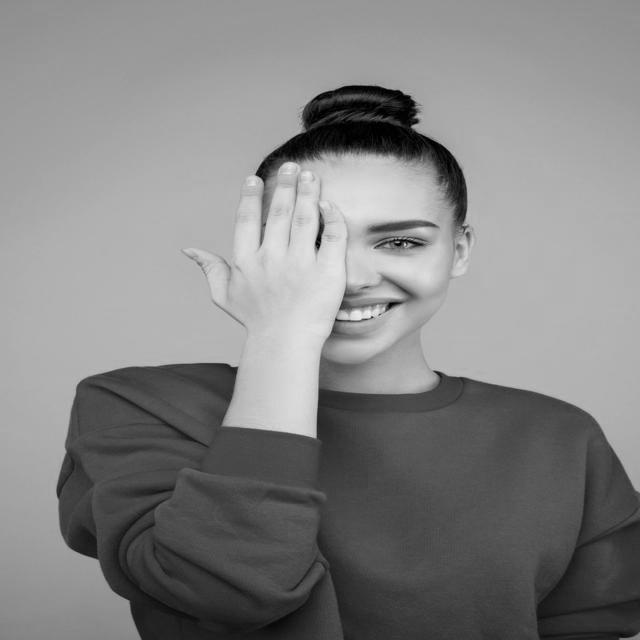Happiness: (252, 158, 453, 367)
